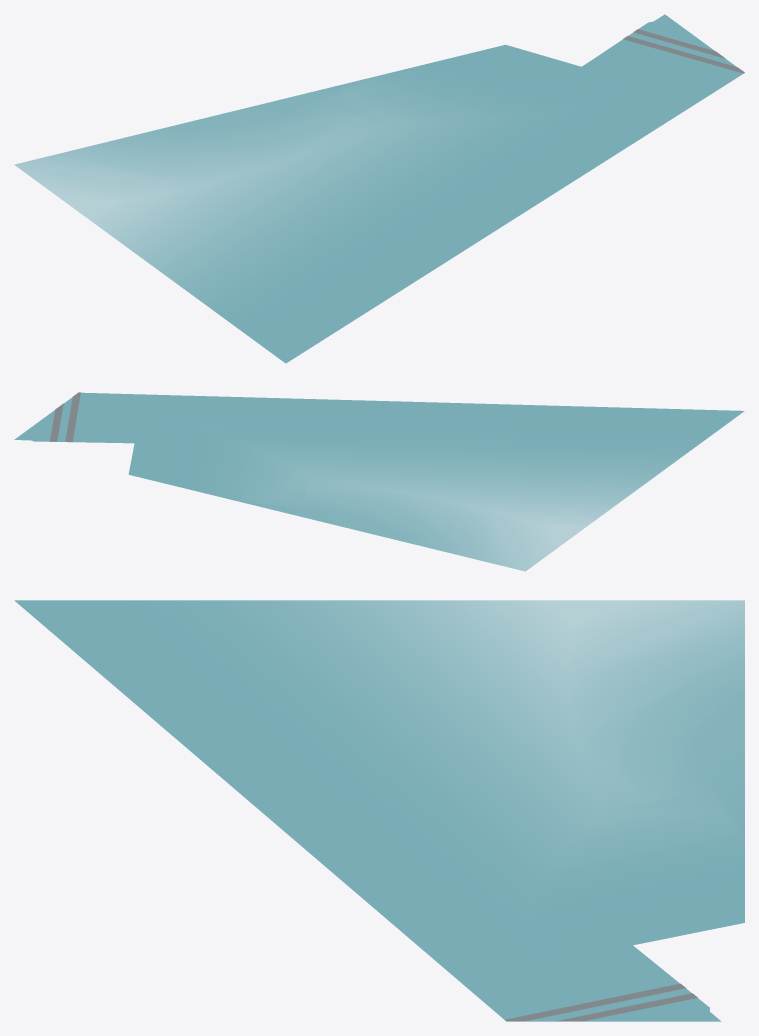
The picture shows the model from 3 angles, top to bottom: view 1: azimuth 30°, elevation 25°; view 2: azimuth 150°, elevation 25°; view 3: azimuth 270°, elevation 25°; orthographic projection. The views are drawn at different scales.
Visible parts, largest first — view 1: city; view 2: city; view 3: city.
Boxes of the visible parts, left/top/right/bottom form: city: left=14, top=14, right=744, bottom=363; city: left=14, top=392, right=744, bottom=571; city: left=14, top=600, right=744, bottom=1021.
Bounding box in the file's own units: 500 × 0.24 × 367.
